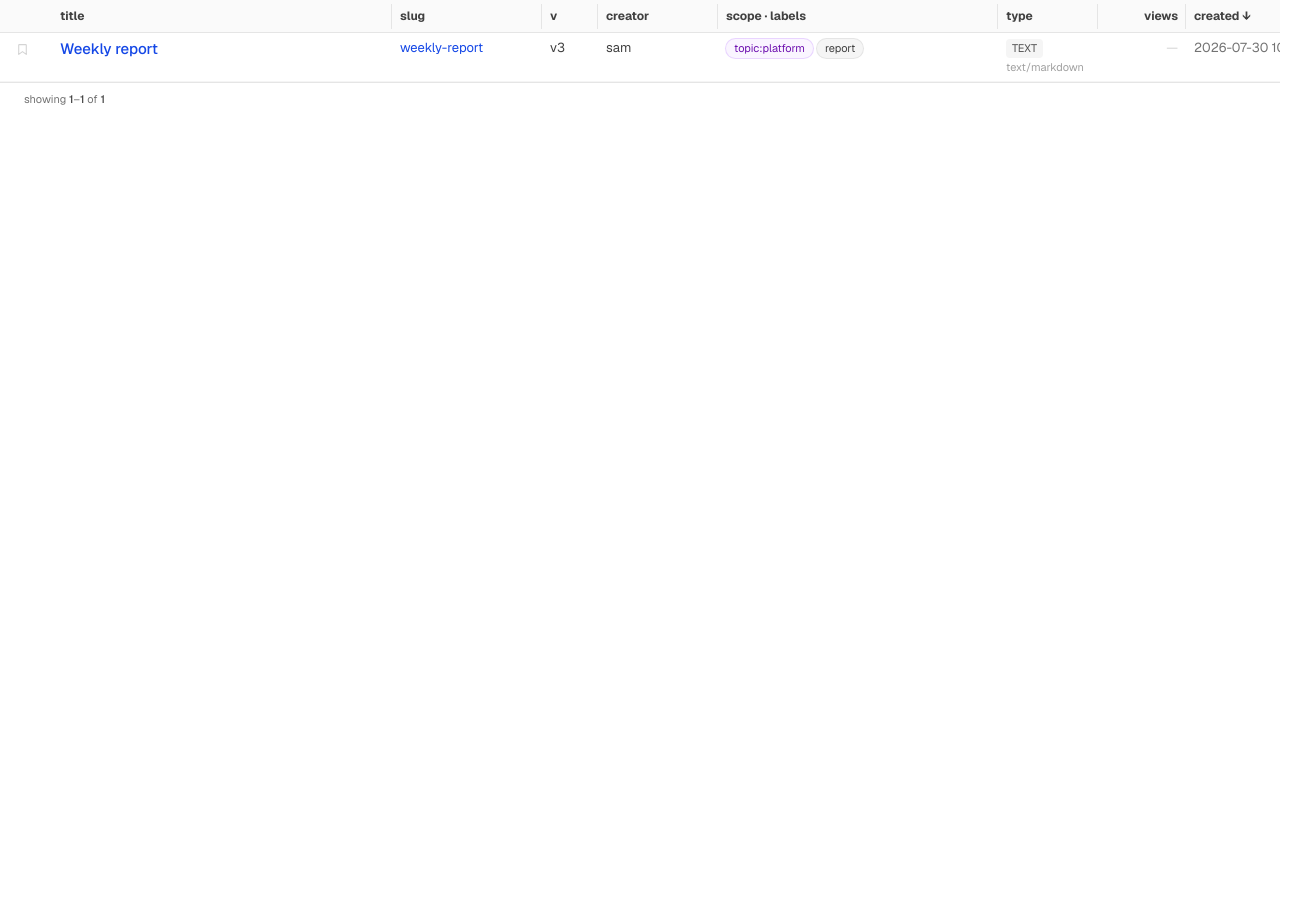
Test: CatalogTable columns › leaves the stored pref alone while a column is pinned
Right-click the element that starts with "title".
right_click(640, 16)  # box [0,0,1280,32]
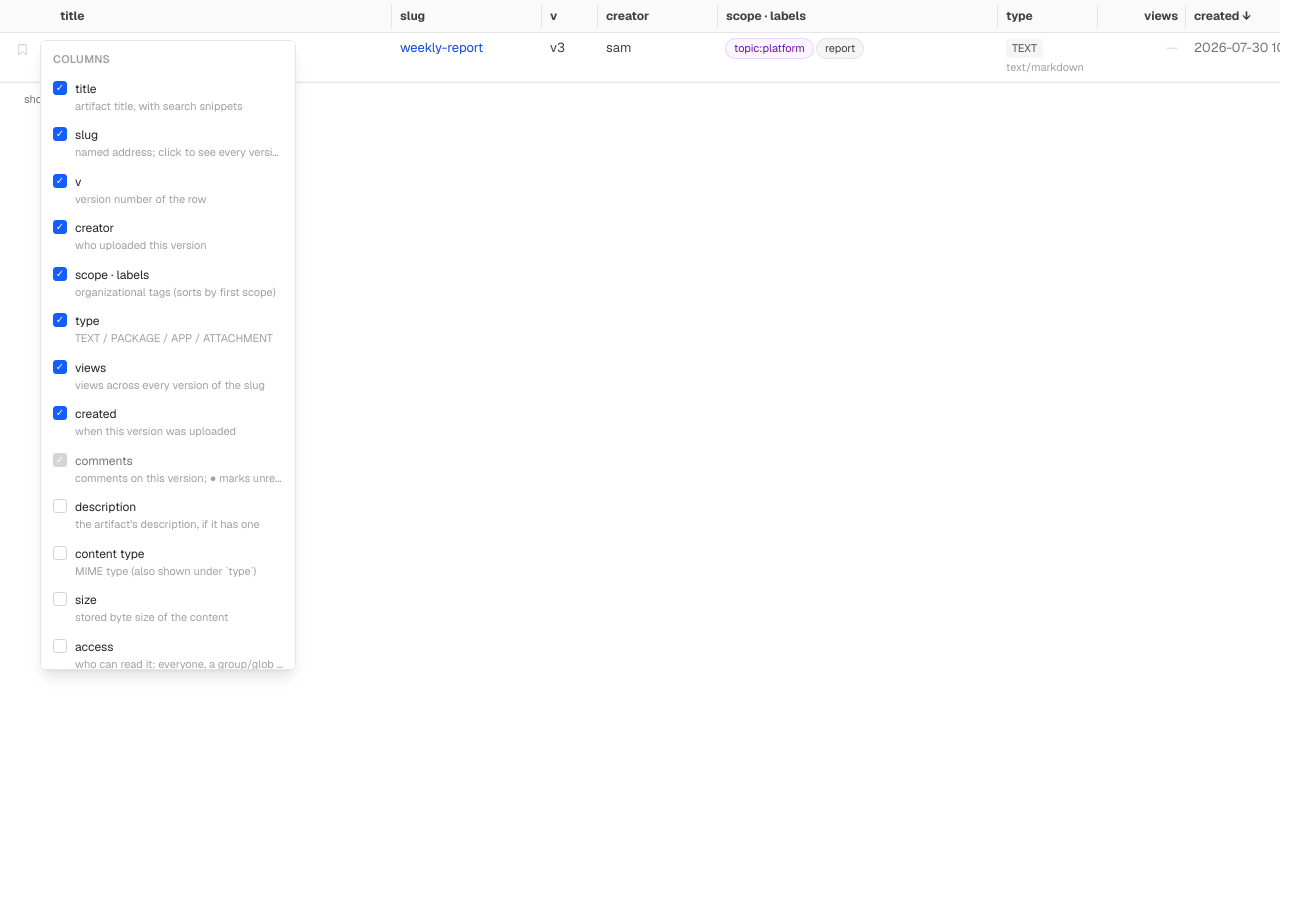
Check: the menu item with aria-label "comments on this version; ● marks unresolved threads · alway" is disabled, box [41,446,295,492]
